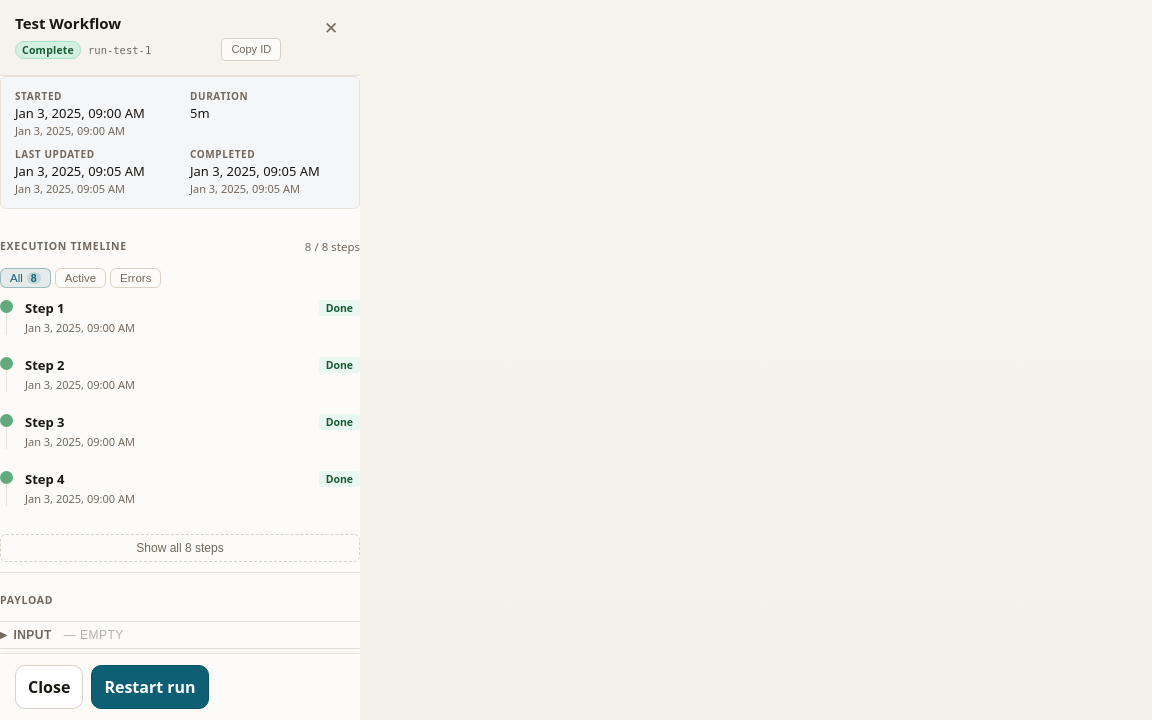
it: Execution timeline — scalability controls › clicking 'Show all' expands to show all steps
This screenshot has width=1152, height=720.
Click the button "Show all 8 steps".
click(180, 548)  # box [0, 534, 360, 562]
(page scrolled)
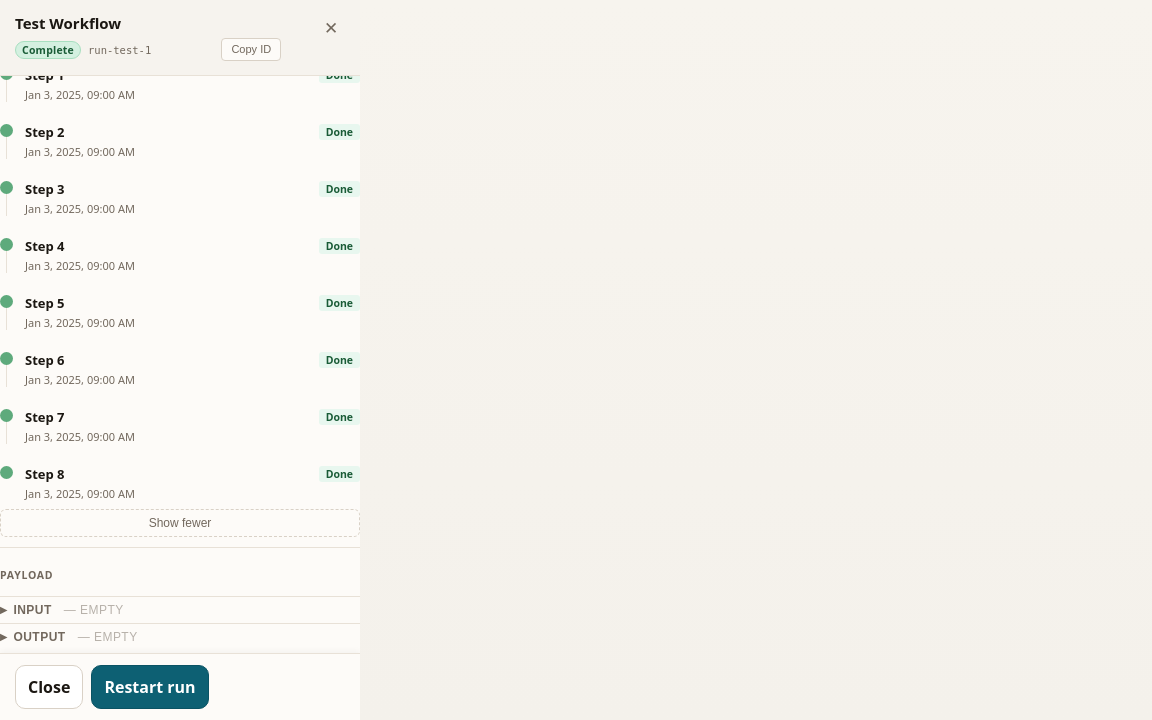
Check: the text "Step 5" is shown, box [25, 294, 64, 312]
Check: the text "Step 8" is shown, box [25, 464, 64, 482]
Check: the button "Show fewer" is shown, box [0, 508, 360, 536]
